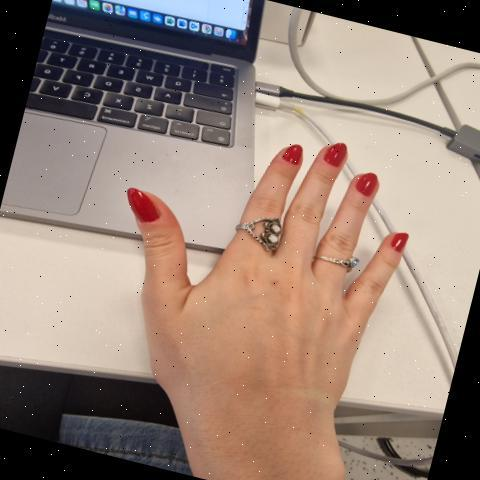Hands: (79, 126, 439, 452)
